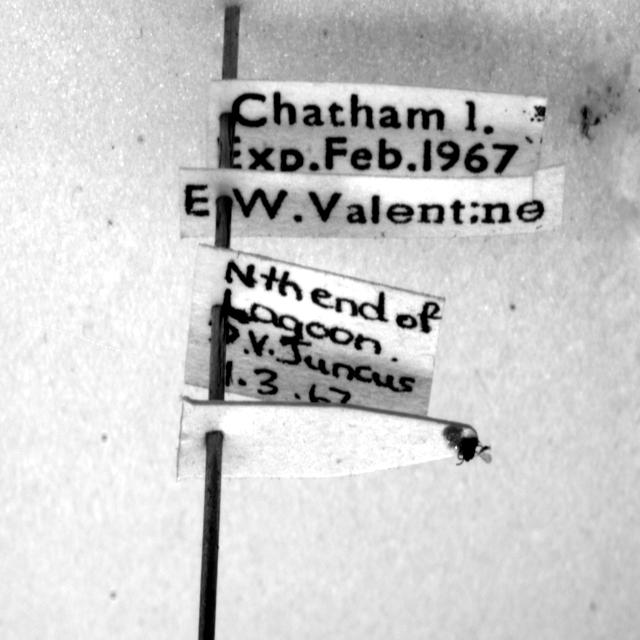hand_label: (185, 246, 445, 416)
typed_label: (206, 79, 546, 176), (180, 165, 564, 238)
